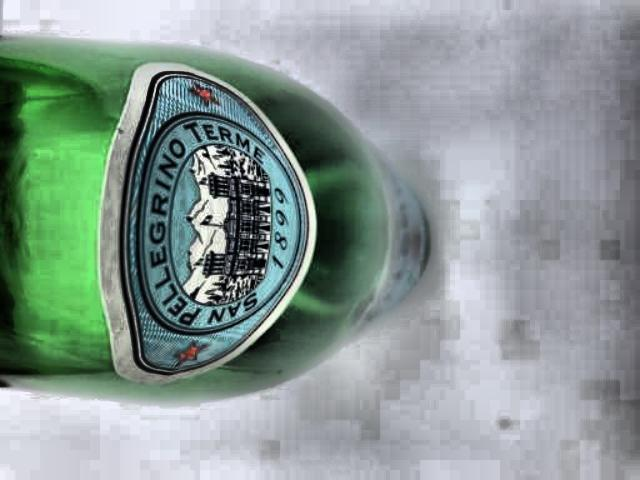Bottles: (0, 42, 465, 392)
